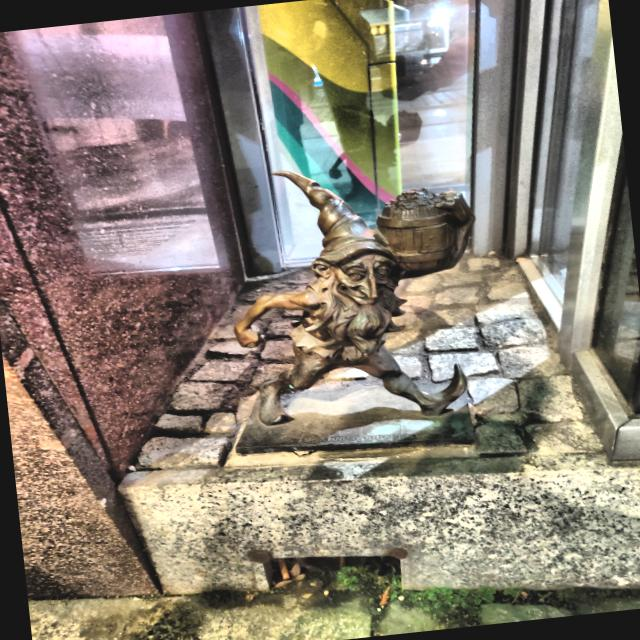Leprykonus: (208, 138, 502, 451)
